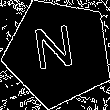N_S: (34, 25, 82, 80)
